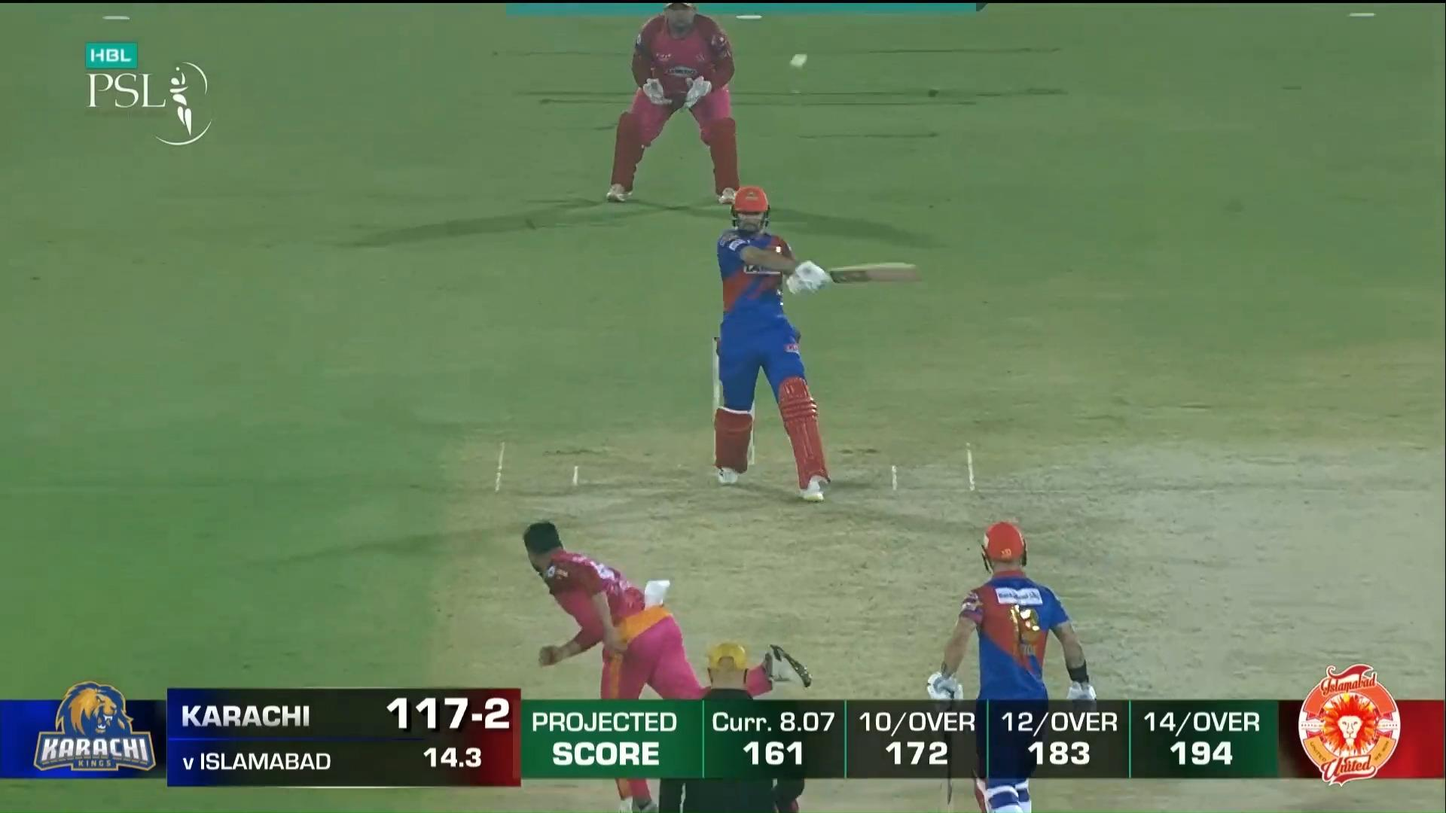batsman: (713, 186, 924, 503)
